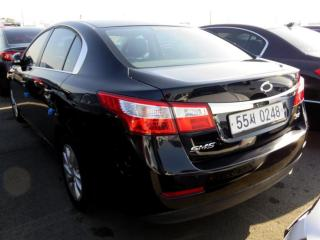0: (259, 108, 265, 123)
2: (265, 107, 271, 121)
4: (271, 106, 275, 119)
5: (241, 113, 250, 128), (236, 116, 242, 130)
8: (275, 105, 282, 118)
서: (249, 112, 257, 125)
